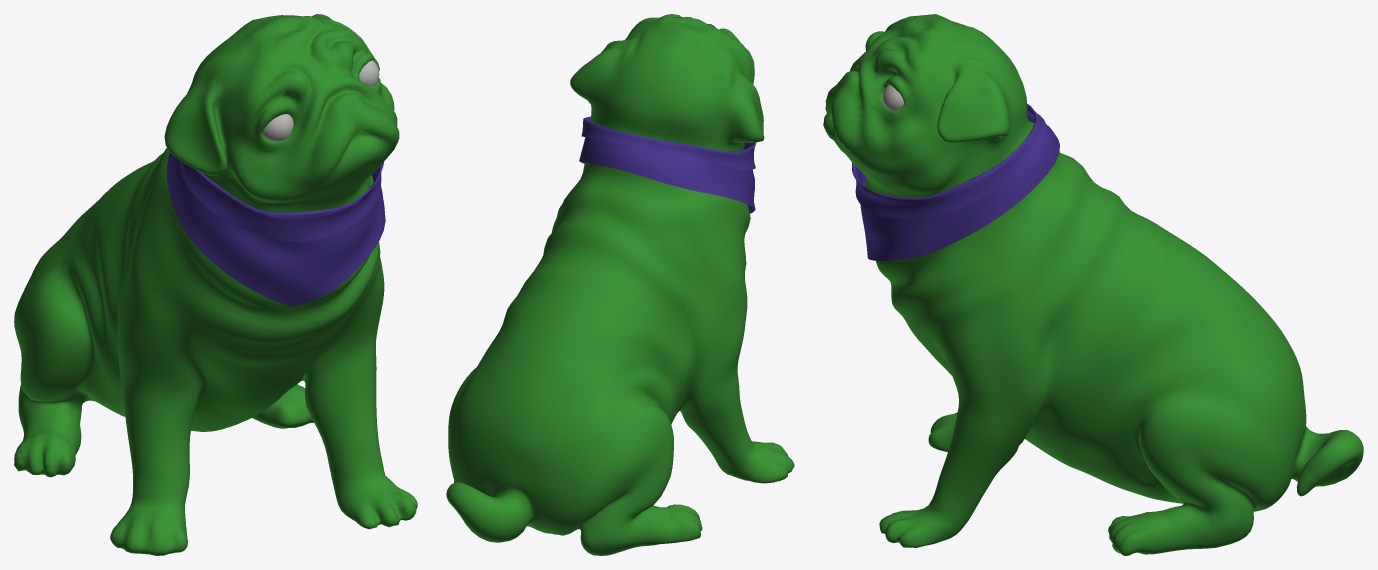
Rendered from sharpei.FBX.
3 views of the same model, side by side, from view 1: azimuth 30°, elevation 25°; view 2: azimuth 150°, elevation 25°; view 3: azimuth 270°, elevation 25° (orthographic). The views are drawn at different scales.
Parts seen in each view (by area): view 1: Shar Pei; view 2: Shar Pei; view 3: Shar Pei.
Part boxes in pixels (x1=…): Shar Pei: x1=14, y1=14, x2=417, y2=555; Shar Pei: x1=446, y1=14, x2=794, y2=555; Shar Pei: x1=823, y1=14, x2=1363, y2=555.
Size of the model in its own units: 213 by 352 by 362.
